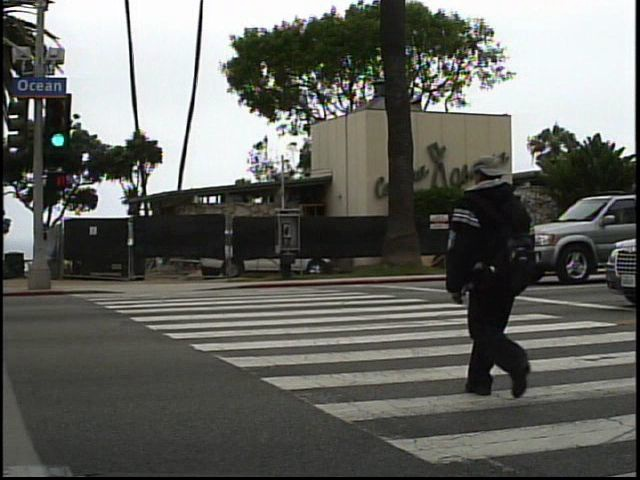person: (446, 140, 550, 401)
